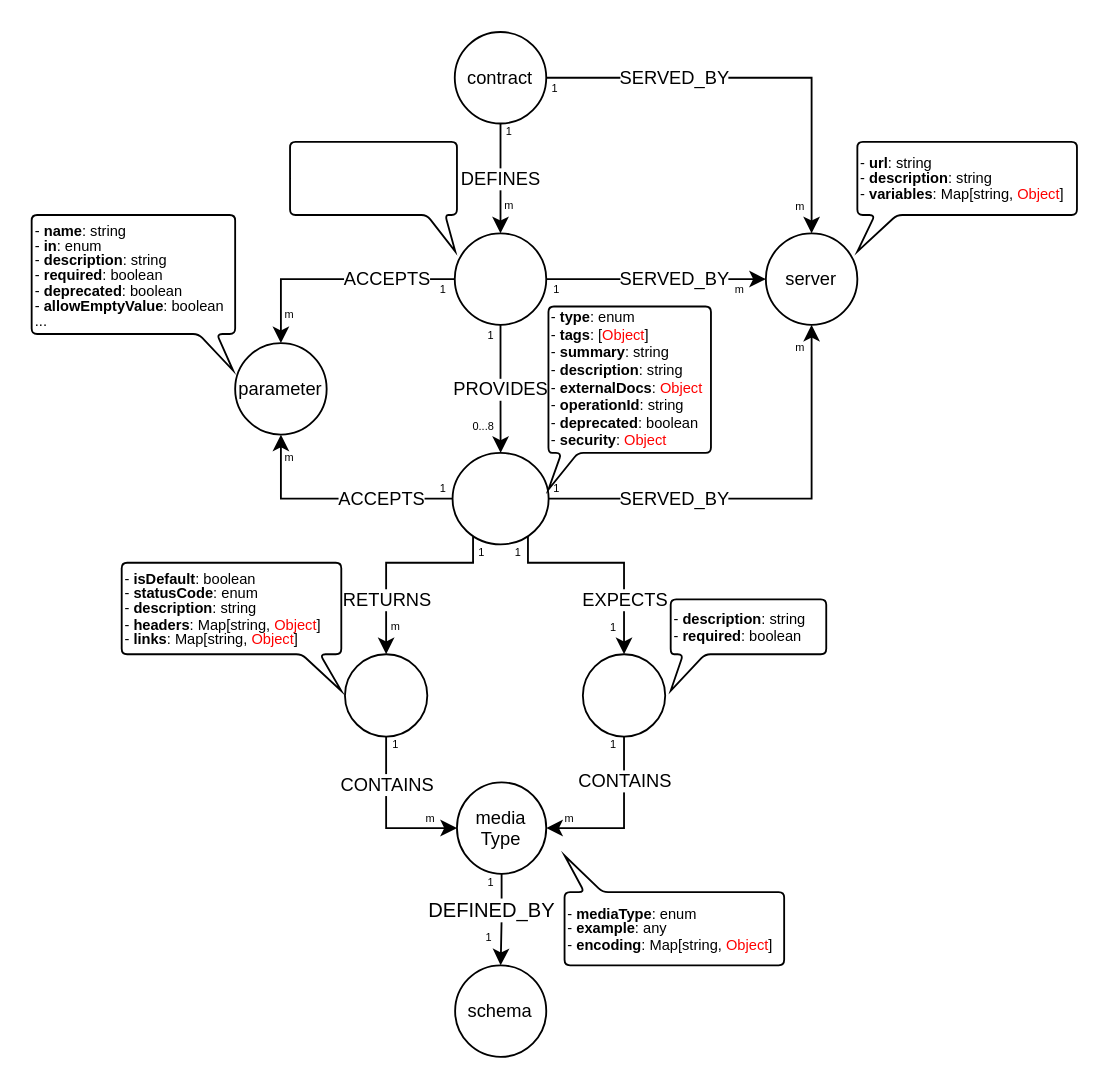
This 1111x1089 diagram has some shape labels left out. The shapes that lost their labels are listed below. From the top down, each one's box as (x1, y1, x2, y2) in pixels, then its label:
(288, 140, 457, 252): - $ref : string - summary : string - description : string
(453, 231, 546, 325): path
(451, 451, 549, 544): operation
(343, 652, 427, 737): response
(581, 652, 665, 737): request body
